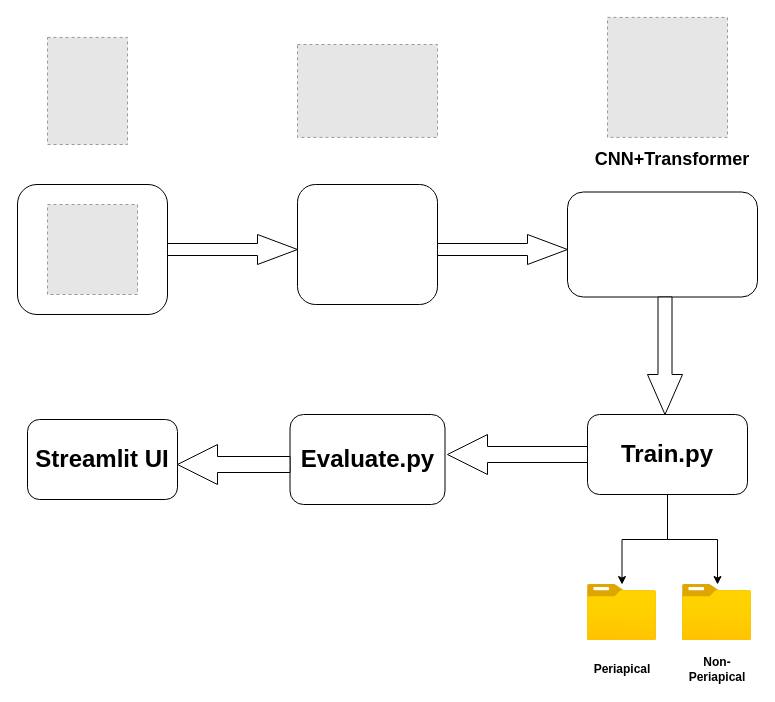
Some shapes in this 775 by 702 pixel diagram are drawn without their labels. Grey dashed boxes stand in for pictures. Here are the shapes that lost their labels. From the top down, the centre of each, then its label:
At (x=367, y=244): "KNN".
At (x=662, y=244): "model.py".
